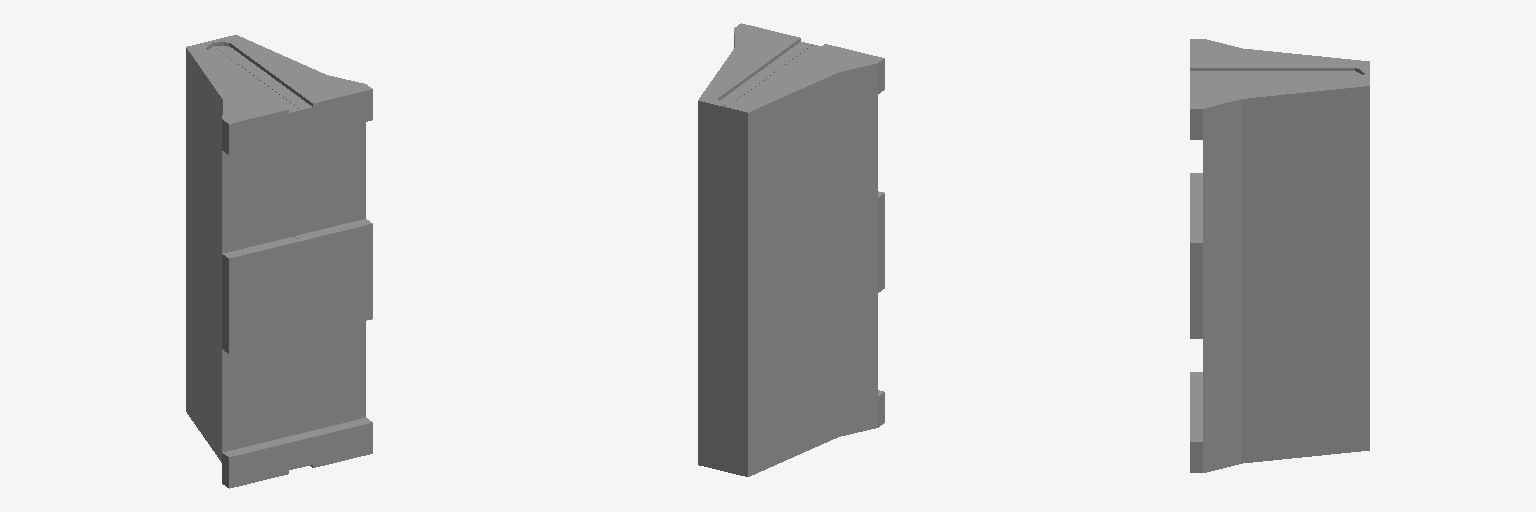
The model's file is basic-barrier.obj.
The picture shows the model from 3 angles: view 1: azimuth 30°, elevation 25°; view 2: azimuth 150°, elevation 25°; view 3: azimuth 270°, elevation 25°; orthographic projection.
Visible parts, largest first — view 1: Murete.001_Cube.000; view 2: Murete.001_Cube.000; view 3: Murete.001_Cube.000.
Part boxes in pixels (x1,y1,x2,y2): Murete.001_Cube.000: (186, 35, 372, 488); Murete.001_Cube.000: (698, 23, 884, 476); Murete.001_Cube.000: (1190, 39, 1369, 472).
Size of the model in its own units: 2.38 by 5.77 by 2.58.